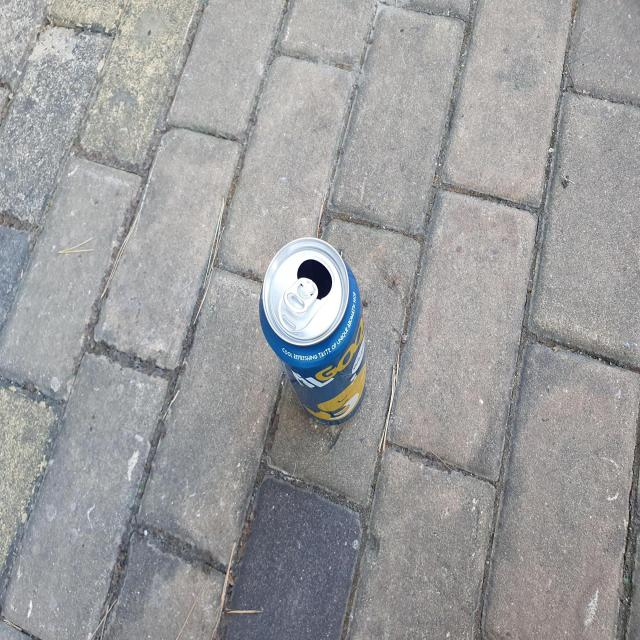can: (259, 237, 367, 425)
